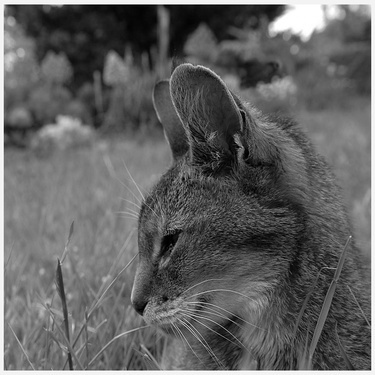cat: (131, 65, 363, 365)
